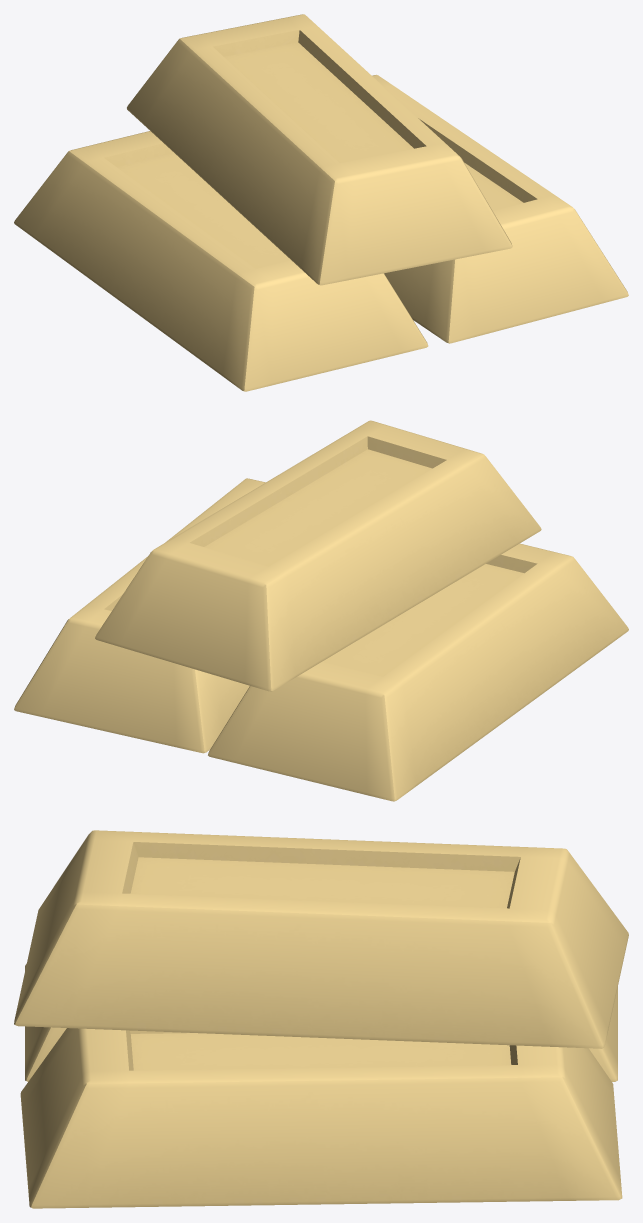
The model's file is fine_gold_bar.gltf.
The picture shows the model from 3 angles, top to bottom: view 1: azimuth 30°, elevation 25°; view 2: azimuth 150°, elevation 25°; view 3: azimuth 270°, elevation 25°; orthographic projection. The views are drawn at different scales.
Parts seen in each view (by area): view 1: Cube.002_2, Cube_0, Cube.001_1; view 2: Cube.002_2, Cube_0, Cube.001_1; view 3: Cube.002_2, Cube.001_1, Cube_0.
Boxes of the visible parts, x1=… form: Cube.002_2: x1=127, y1=14, x2=512, y2=285; Cube_0: x1=14, y1=131, x2=428, y2=391; Cube.001_1: x1=372, y1=74, x2=628, y2=343; Cube.002_2: x1=95, y1=420, x2=541, y2=691; Cube_0: x1=208, y1=543, x2=628, y2=801; Cube.001_1: x1=14, y1=478, x2=265, y2=753; Cube.002_2: x1=14, y1=830, x2=628, y2=1048; Cube.001_1: x1=20, y1=1028, x2=622, y2=1208; Cube_0: x1=25, y1=964, x2=617, y2=1081.
Bounding box in the file's own units: 2.88 × 1.17 × 3.09.
1 material, 1 textured.
